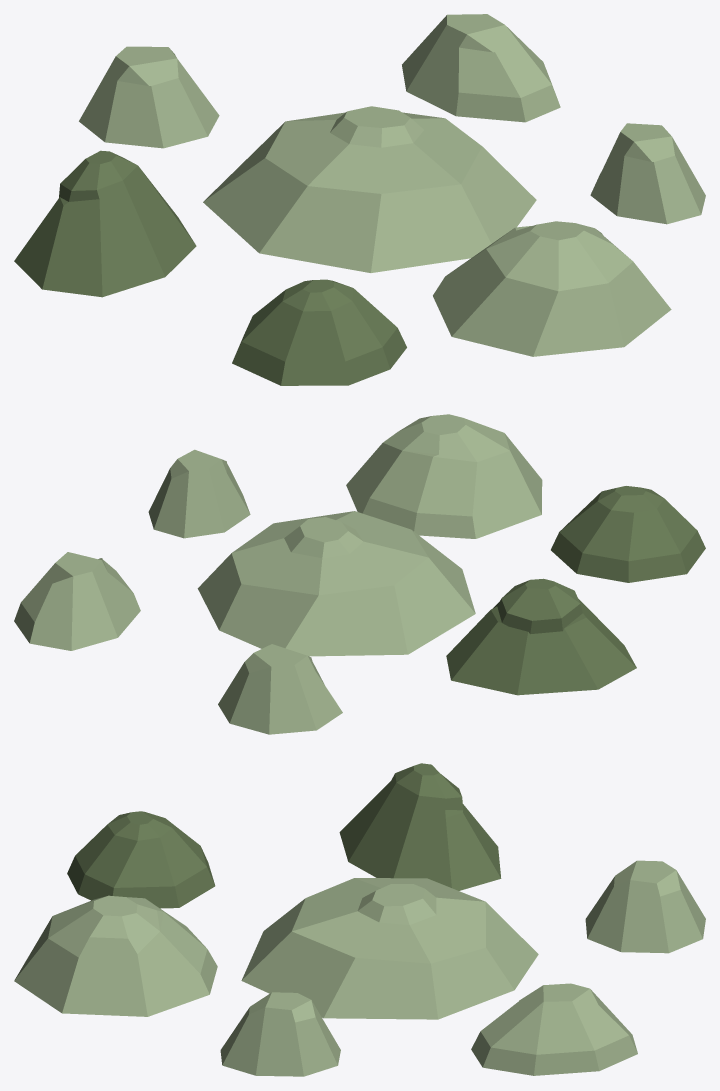
The model's file is EA_Swamp_Grass_Hill_01d.glb.
3 views of the same model, one above another, from view 1: azimuth 30°, elevation 25°; view 2: azimuth 150°, elevation 25°; view 3: azimuth 270°, elevation 25° (orthographic). The views are drawn at different scales.
Parts seen in each view (by area): view 1: EA_Swamp_Grass_Hill_01d; view 2: EA_Swamp_Grass_Hill_01d; view 3: EA_Swamp_Grass_Hill_01d.
Part boxes in pixels (<box>): EA_Swamp_Grass_Hill_01d: <box>14,14,705,385</box>; EA_Swamp_Grass_Hill_01d: <box>14,414,705,734</box>; EA_Swamp_Grass_Hill_01d: <box>14,763,705,1076</box>.
Bounding box in the file's own units: 0.9806 × 0.1469 × 1.1.
Materials: 1 (1 with a texture image).
